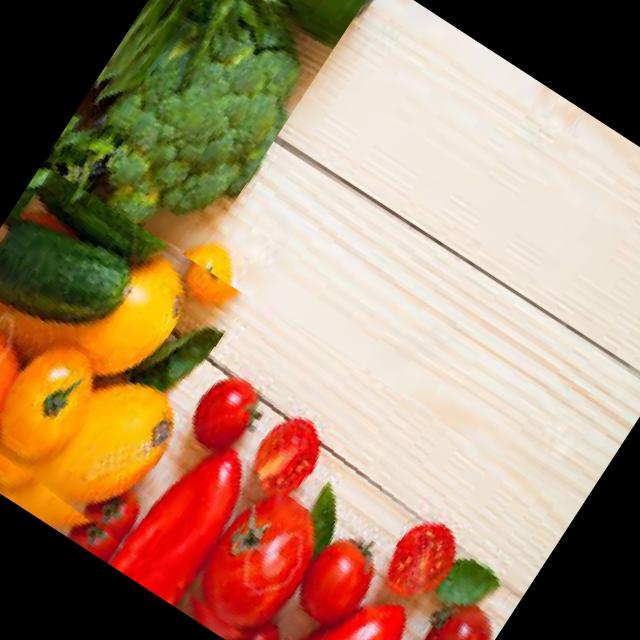Organic: (0, 161, 578, 640), (41, 0, 378, 260)
